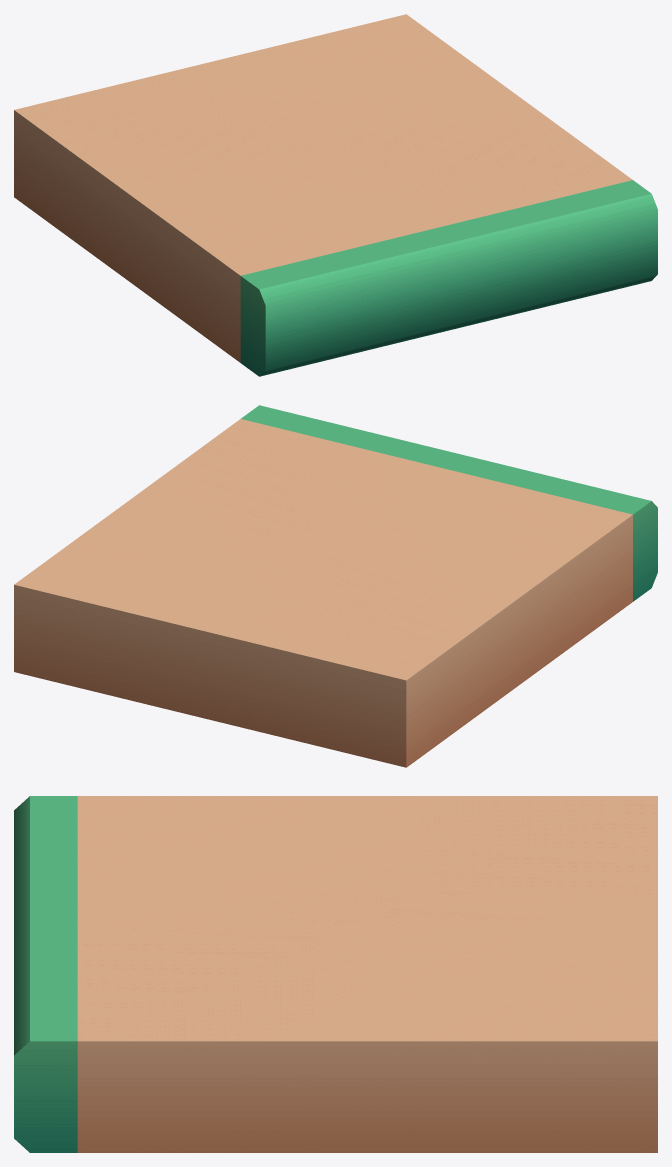
The model's file is roof-flat-awning-a.glb.
The picture shows the model from 3 angles, top to bottom: view 1: azimuth 30°, elevation 25°; view 2: azimuth 150°, elevation 25°; view 3: azimuth 270°, elevation 25°; orthographic projection. The views are drawn at different scales.
Parts seen in each view (by area): view 1: roof-flat-awning-a; view 2: roof-flat-awning-a; view 3: roof-flat-awning-a.
Part boxes in pixels (x1,y1,x2,y2): roof-flat-awning-a: (14, 14, 657, 376); roof-flat-awning-a: (14, 405, 657, 767); roof-flat-awning-a: (14, 796, 657, 1152).
Bounding box in the file's own units: 1 × 0.2125 × 1.11.
Materials: 1 (1 with a texture image).
